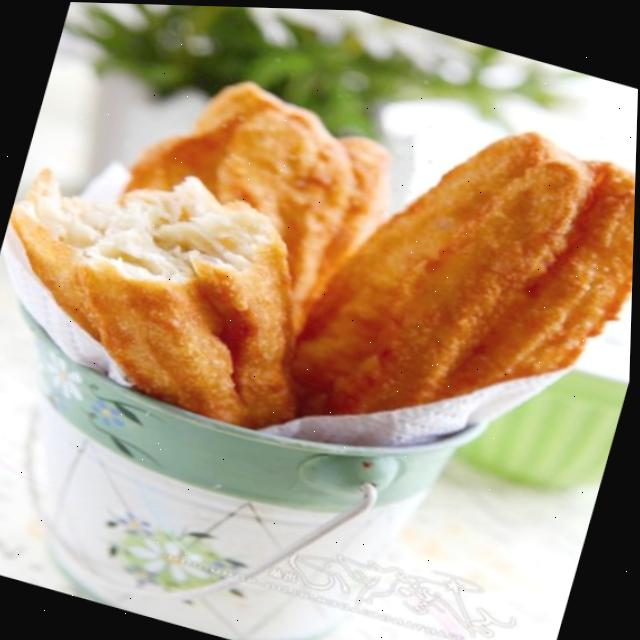炸货点心: (0, 0, 640, 611)
